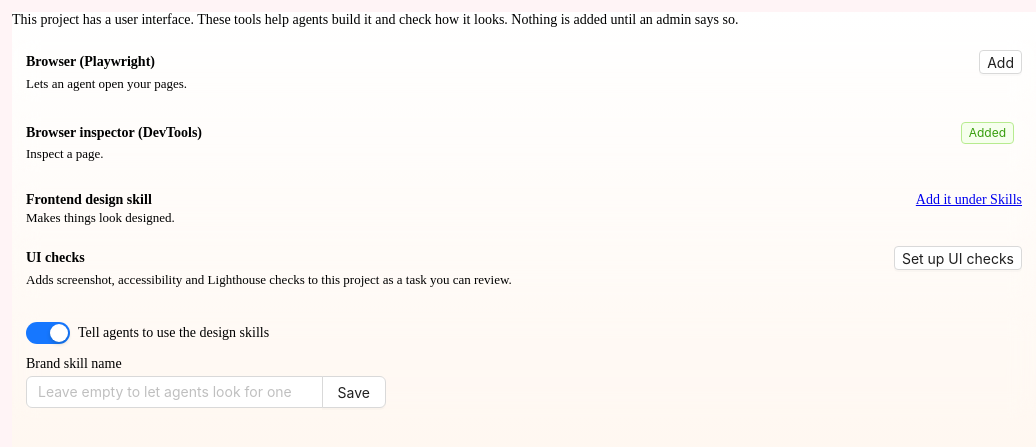
Test case: RecommendedSection › a 403 reads as a plain sentence
Click the switch named "Tell agents to use the design skills": point(48, 333) [26, 322, 70, 344]
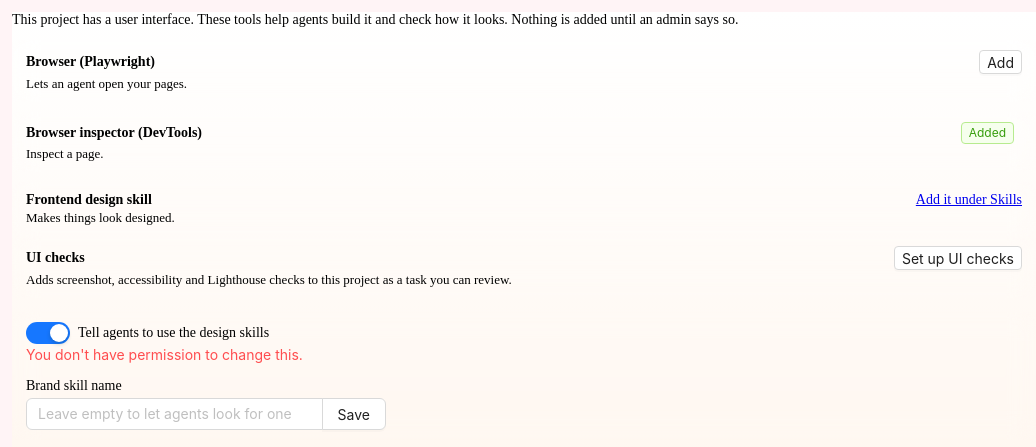
Check: the text "You don't have permission to change this." is shown, box [26, 346, 303, 363]
